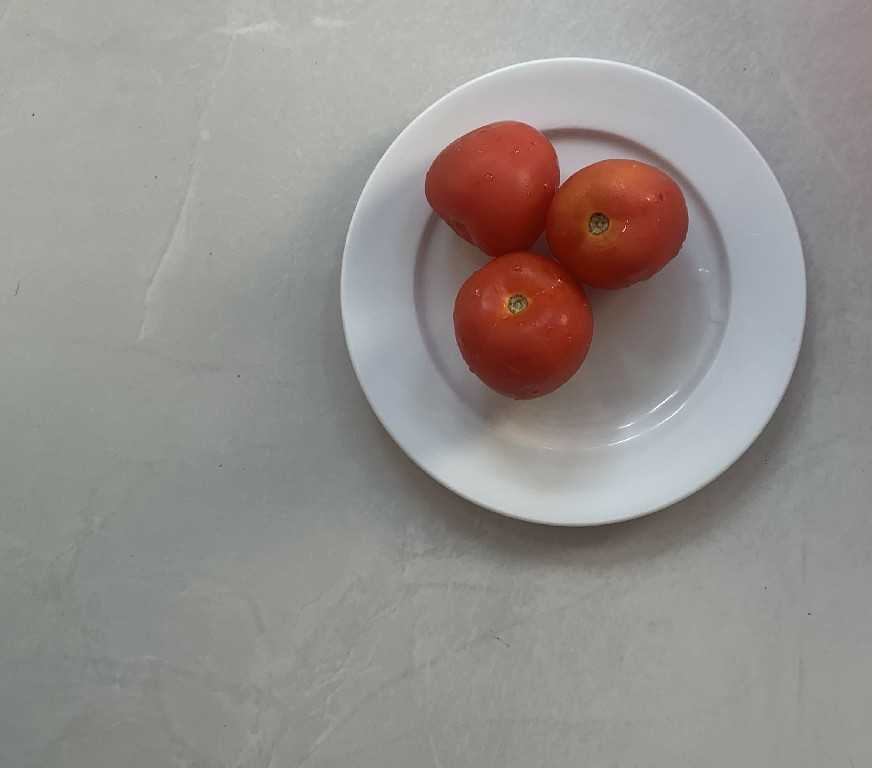OK: (453, 252, 598, 407), (549, 155, 693, 291), (421, 115, 560, 254)
